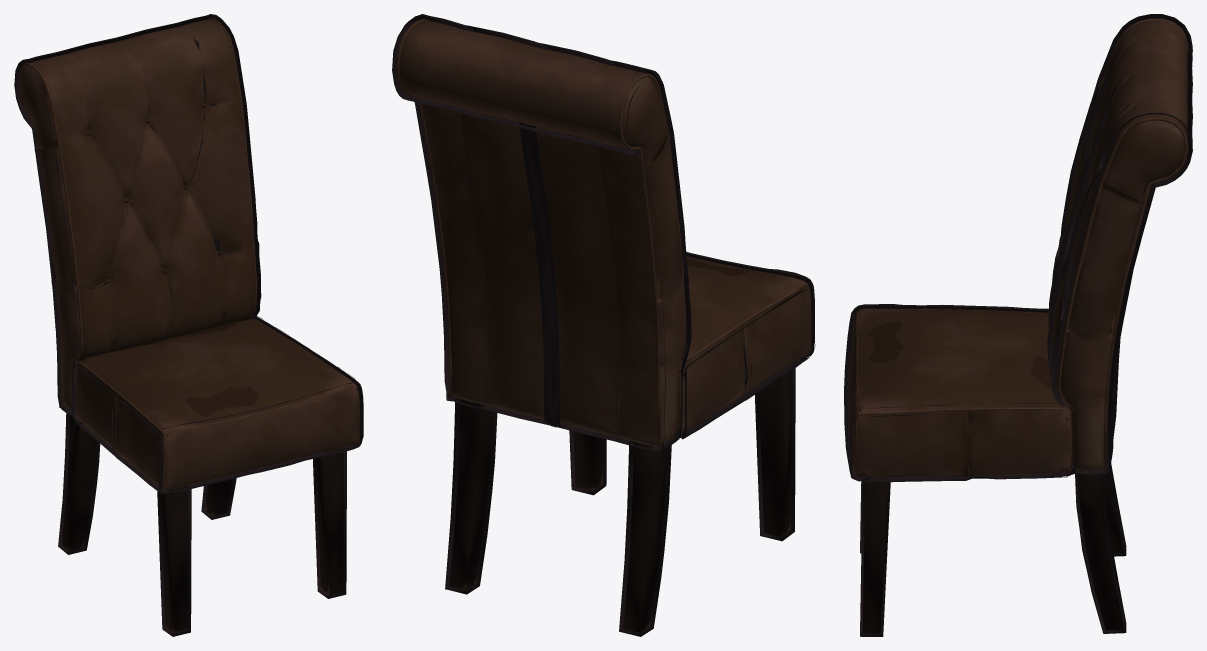
File: SM_Int_DiningChair.fbx
The picture shows the model from 3 angles, left to right: view 1: azimuth 30°, elevation 25°; view 2: azimuth 150°, elevation 25°; view 3: azimuth 270°, elevation 25°; orthographic projection. The views are drawn at different scales.
Visible parts, largest first — view 1: SM_Int_DiningChair; view 2: SM_Int_DiningChair; view 3: SM_Int_DiningChair.
Boxes of the visible parts, <box> form: SM_Int_DiningChair: <box>14,14,363,636</box>; SM_Int_DiningChair: <box>392,14,815,636</box>; SM_Int_DiningChair: <box>844,14,1192,636</box>.
Size of what is drawn, in the model's own units: 0.4615 by 1.01 by 0.6082.
